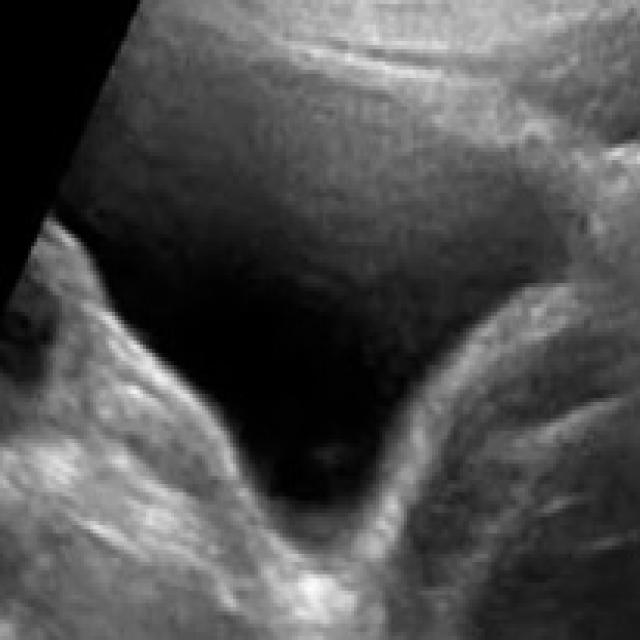bladder: (37, 16, 624, 606)
